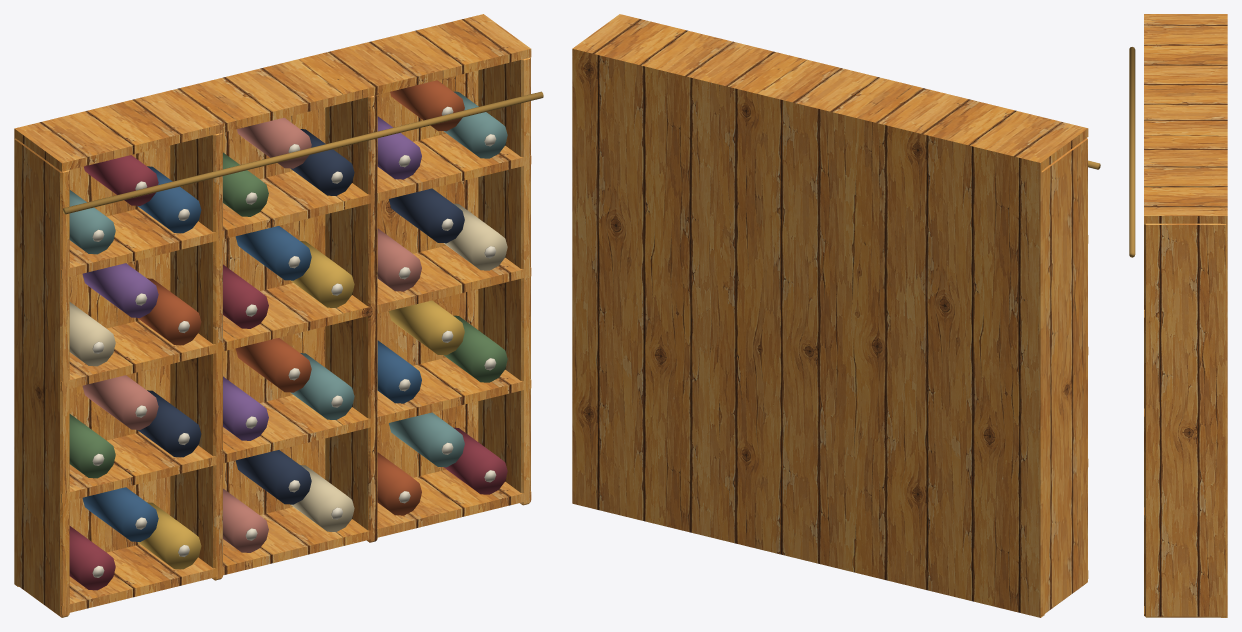
3 renders of one model, left to right at view 1: azimuth 30°, elevation 25°; view 2: azimuth 150°, elevation 25°; view 3: azimuth 270°, elevation 25°, orthographic. The views are drawn at different scales.
Parts seen in each view (by area): view 1: shop_oak, shop_cloth_5, shop_cloth_1, shop_cloth_8, shop_cloth_9, shop_cloth_4, shop_cloth_0, shop_cloth_2, shop_cloth_6, shop_cloth_7, shop_cloth_3, shop_linen (+1 smaller); view 2: shop_oak; view 3: shop_oak, shop_brass.
Boxes of the visible parts, left/top/right/bottom form: shop_oak: left=14, top=14, right=531, bottom=617; shop_cloth_5: left=137, top=129, right=464, bottom=504; shop_cloth_1: left=82, top=166, right=421, bottom=541; shop_cloth_8: left=137, top=80, right=464, bottom=515; shop_cloth_9: left=69, top=91, right=507, bottom=467; shop_cloth_4: left=82, top=117, right=421, bottom=552; shop_cloth_0: left=69, top=155, right=507, bottom=590; shop_cloth_2: left=137, top=241, right=464, bottom=569; shop_cloth_6: left=69, top=203, right=507, bottom=531; shop_cloth_7: left=82, top=116, right=421, bottom=440; shop_cloth_3: left=69, top=152, right=507, bottom=478; shop_linen: left=92, top=106, right=496, bottom=577; shop_oak: left=572, top=14, right=1088, bottom=617; shop_oak: left=1144, top=14, right=1227, bottom=617; shop_brass: left=1129, top=47, right=1135, bottom=257.
Size of the model in its own units: 2.9 by 2.64 by 0.588.
Materials: 13 (1 with a texture image).
